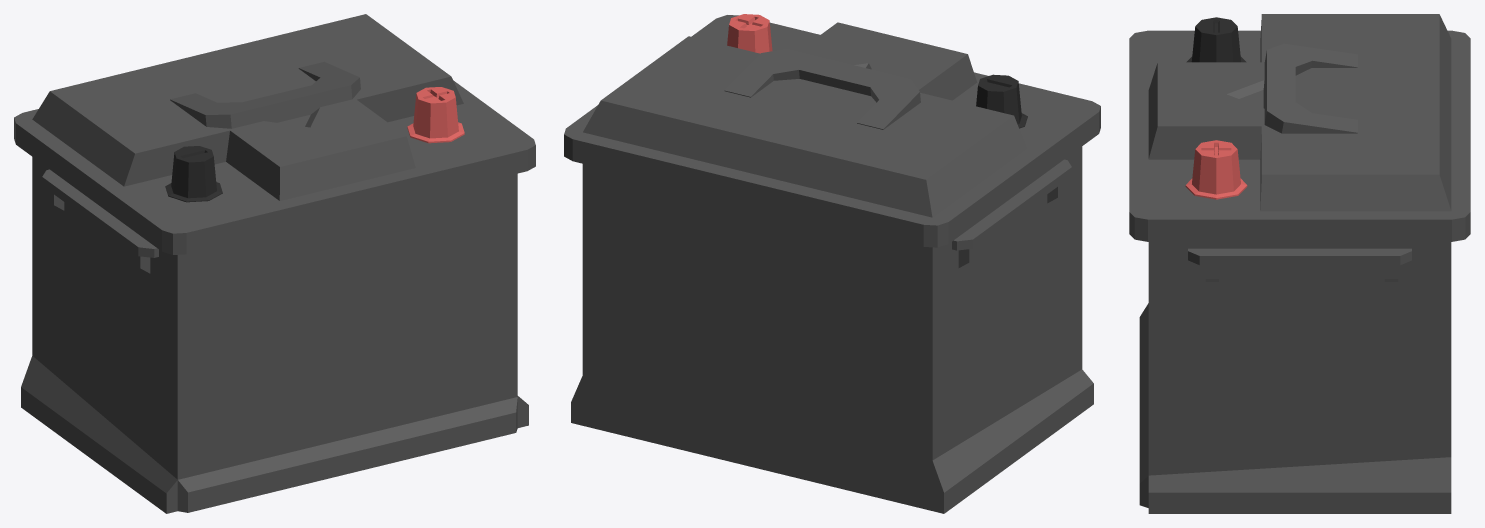
File: battery.glb
3 renders of one model, left to right at view 1: azimuth 30°, elevation 25°; view 2: azimuth 150°, elevation 25°; view 3: azimuth 270°, elevation 25°, orthographic. The views are drawn at different scales.
Visible parts, largest first — view 1: CarBattery; view 2: CarBattery; view 3: CarBattery.
Part boxes in pixels (<box>): CarBattery: <box>14,14,535,513</box>; CarBattery: <box>564,14,1100,513</box>; CarBattery: <box>1129,14,1470,513</box>.
Size of the model in its own units: 0.9807 by 0.8269 by 0.7491.
